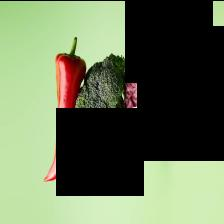green: (75, 52, 136, 185)
